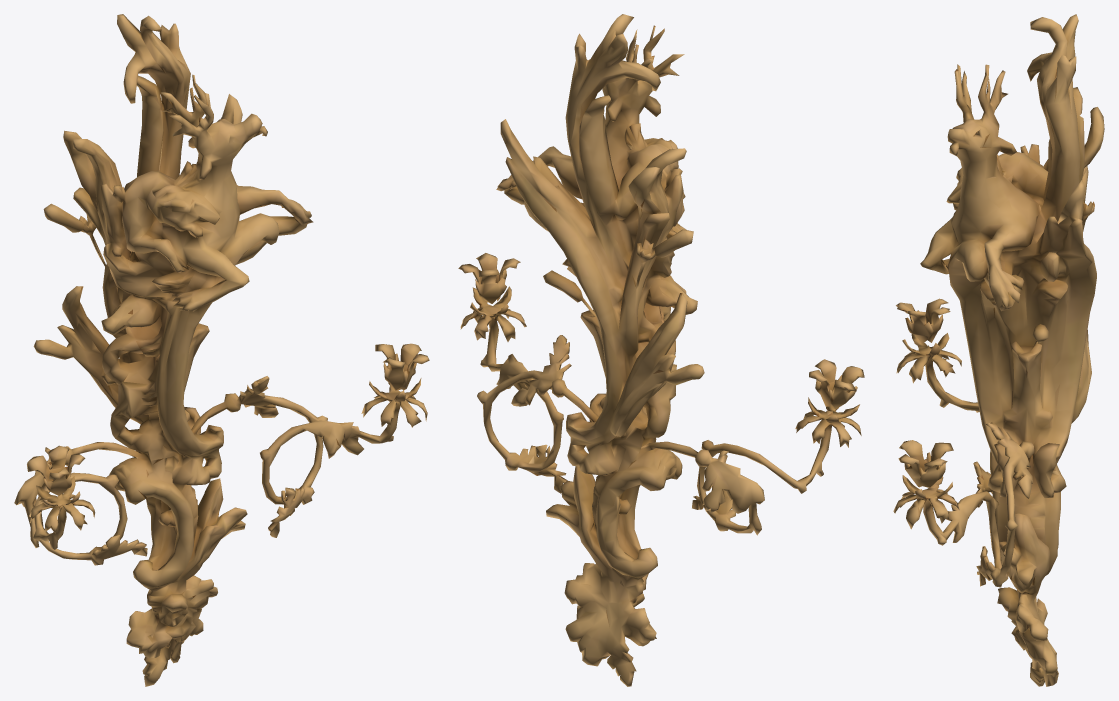
The model's file is sconce-2017746-4.glb.
3 views of the same model, side by side, from view 1: azimuth 30°, elevation 25°; view 2: azimuth 150°, elevation 25°; view 3: azimuth 270°, elevation 25° (orthographic).
Parts seen in each view (by area): view 1: Mesh; view 2: Mesh; view 3: Mesh.
Part boxes in pixels (x1,y1,x2,y2): Mesh: (14,14,429,686); Mesh: (458,14,864,686); Mesh: (893,14,1104,686).
Bounding box in the file's own units: 0.5393 × 0.8764 × 0.2503.
1 material, 1 textured.
